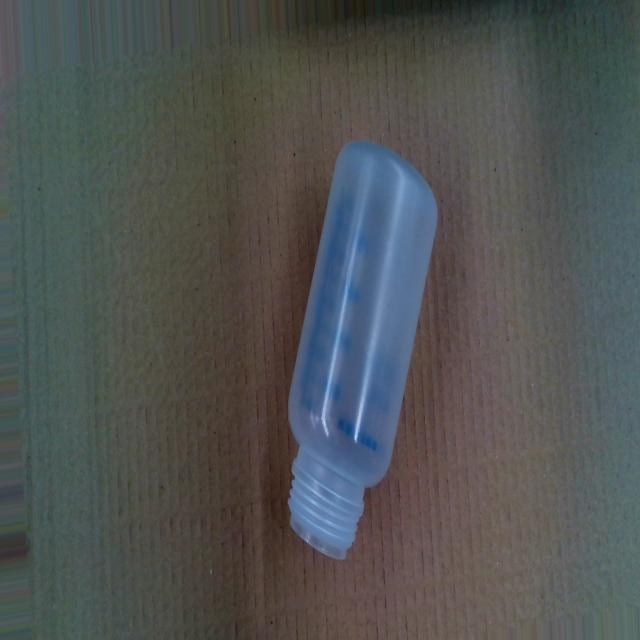bottle: (285, 139, 441, 563)
